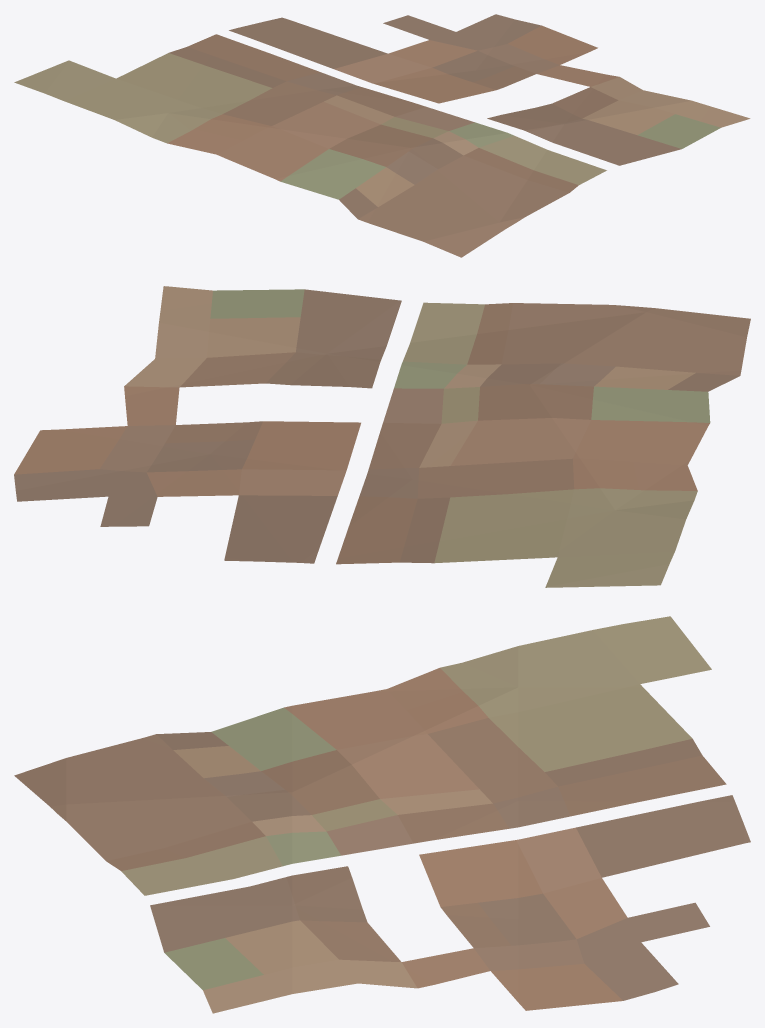
File: farm_30_13_soil.glb
3 renders of one model, top to bottom at view 1: azimuth 30°, elevation 25°; view 2: azimuth 150°, elevation 25°; view 3: azimuth 270°, elevation 25°, orthographic. The views are drawn at different scales.
Visible parts, largest first — view 1: geometry_0; view 2: geometry_0; view 3: geometry_0.
Boxes of the visible parts, left/top/right/bottom form: geometry_0: left=14, top=14, right=750, bottom=257; geometry_0: left=14, top=286, right=750, bottom=587; geometry_0: left=14, top=616, right=750, bottom=1013.
Size of the model in its own units: 290 by 26.74 by 261.
